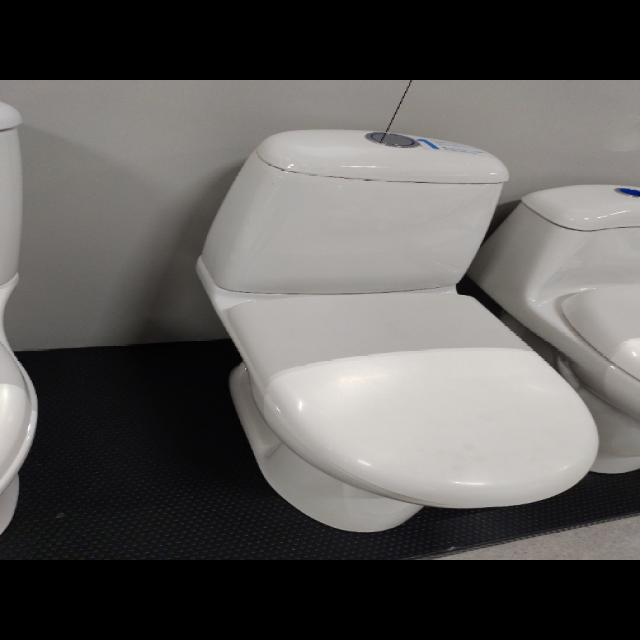toilet: (195, 128, 600, 532), (464, 183, 638, 473), (0, 99, 38, 536)
